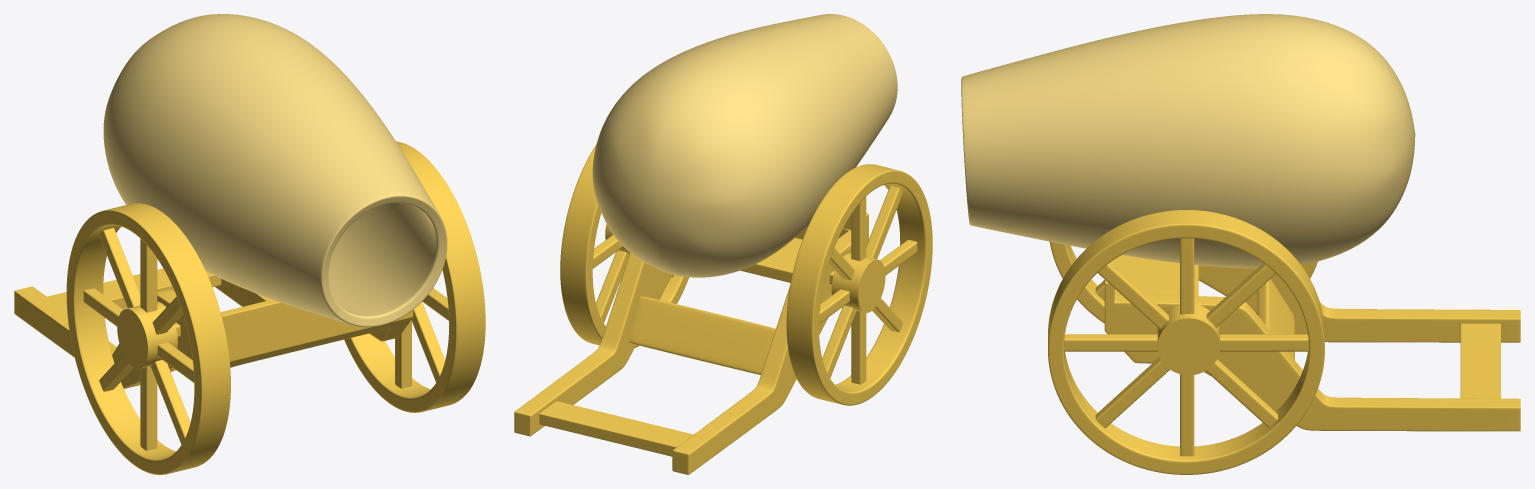
Rendered from Cannon.glb.
The picture shows the model from 3 angles, left to right: view 1: azimuth 30°, elevation 25°; view 2: azimuth 150°, elevation 25°; view 3: azimuth 270°, elevation 25°; orthographic projection. The views are drawn at different scales.
Parts seen in each view (by area): view 1: pCylinder5, pCylinder9, pCylinder6, pCube3, pCube14, pCube15, pCylinder8, pCube13, pCube16, pCube12, pCube6, pCube9; view 2: pCylinder5, pCylinder9, pCube3, pCube8, pCylinder6, pCube6, pCube16, pCylinder8, pCube15, pCube7, pCube13, pCube11 (+2 smaller); view 3: pCylinder5, pCube3, pCylinder6, pCylinder7, pCube10, pCube6, pCube12, pCube11, pCube9, pCube7, pCube8, pCylinder9.
Part boxes in pixels (bbox=[...]): pCylinder5: bbox=[103, 14, 447, 327]; pCylinder9: bbox=[66, 203, 230, 474]; pCylinder6: bbox=[344, 141, 485, 412]; pCube3: bbox=[14, 279, 413, 388]; pCube14: bbox=[99, 228, 190, 444]; pCube15: bbox=[140, 239, 157, 450]; pCylinder8: bbox=[117, 301, 177, 368]; pCube13: bbox=[83, 288, 194, 382]; pCube16: bbox=[99, 296, 182, 391]; pCube12: bbox=[411, 302, 444, 382]; pCube6: bbox=[47, 268, 221, 310]; pCube9: bbox=[395, 320, 411, 388]; pCylinder5: bbox=[592, 14, 897, 277]; pCylinder9: bbox=[786, 164, 932, 405]; pCube3: bbox=[514, 213, 868, 474]; pCube8: bbox=[629, 296, 775, 374]; pCylinder6: bbox=[560, 144, 688, 347]; pCube6: bbox=[539, 401, 693, 456]; pCube16: bbox=[822, 186, 903, 377]; pCylinder8: bbox=[831, 253, 885, 312]; pCube15: bbox=[851, 196, 866, 384]; pCube7: bbox=[740, 238, 802, 282]; pCube13: bbox=[819, 240, 917, 323]; pCube11: bbox=[596, 250, 628, 322]; pCylinder5: bbox=[961, 14, 1415, 268]; pCube3: bbox=[1104, 259, 1520, 431]; pCylinder6: bbox=[1048, 210, 1324, 474]; pCylinder7: bbox=[1157, 304, 1220, 375]; pCube10: bbox=[1064, 334, 1308, 351]; pCube6: bbox=[1460, 323, 1500, 398]; pCube12: bbox=[1095, 263, 1275, 428]; pCube11: bbox=[1098, 262, 1277, 427]; pCube9: bbox=[1180, 238, 1194, 456]; pCube7: bbox=[1114, 255, 1198, 296]; pCube8: bbox=[1257, 279, 1294, 359]; pCylinder9: bbox=[1049, 242, 1317, 323].
Size of the model in its own units: 8.33 by 10.37 by 13.87.
